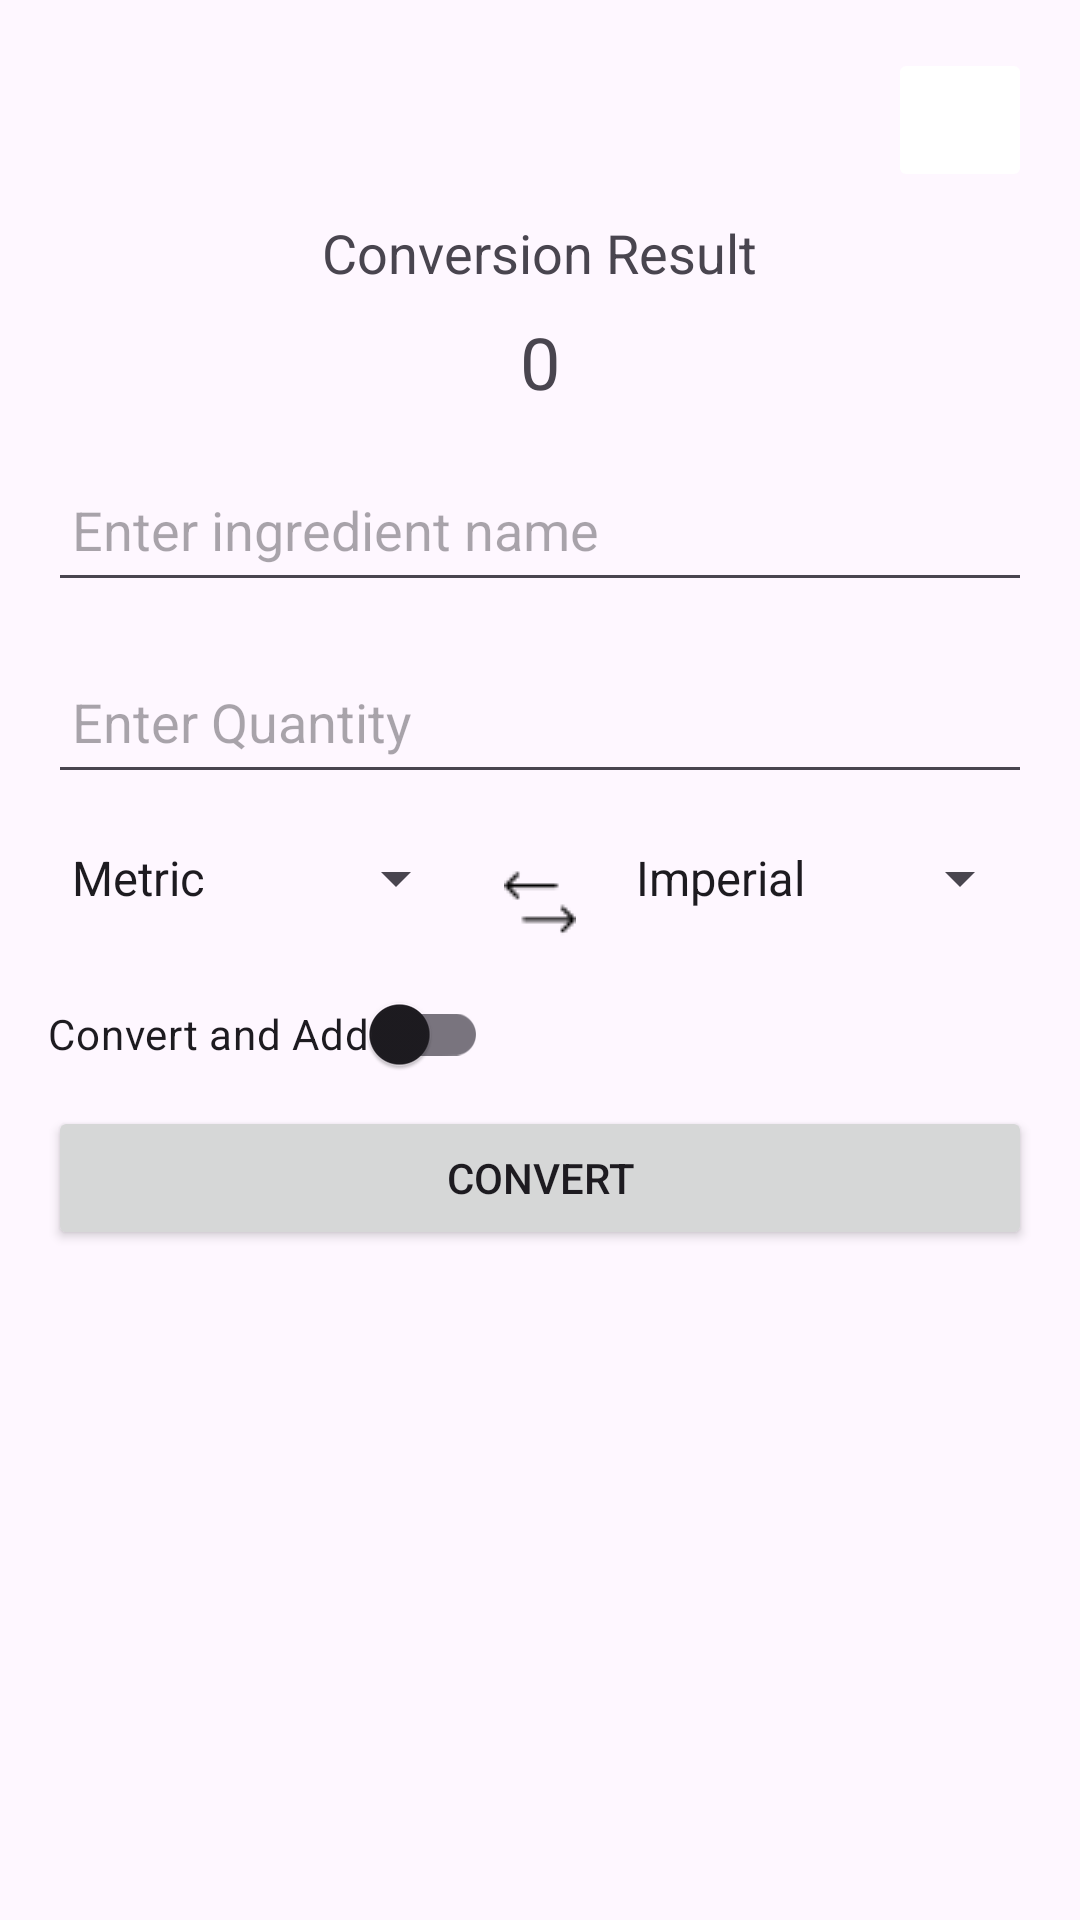

Named icons in this screenshot (1080px x 1920px) and their centers, [x,y]:
Swap units: [540,902]
